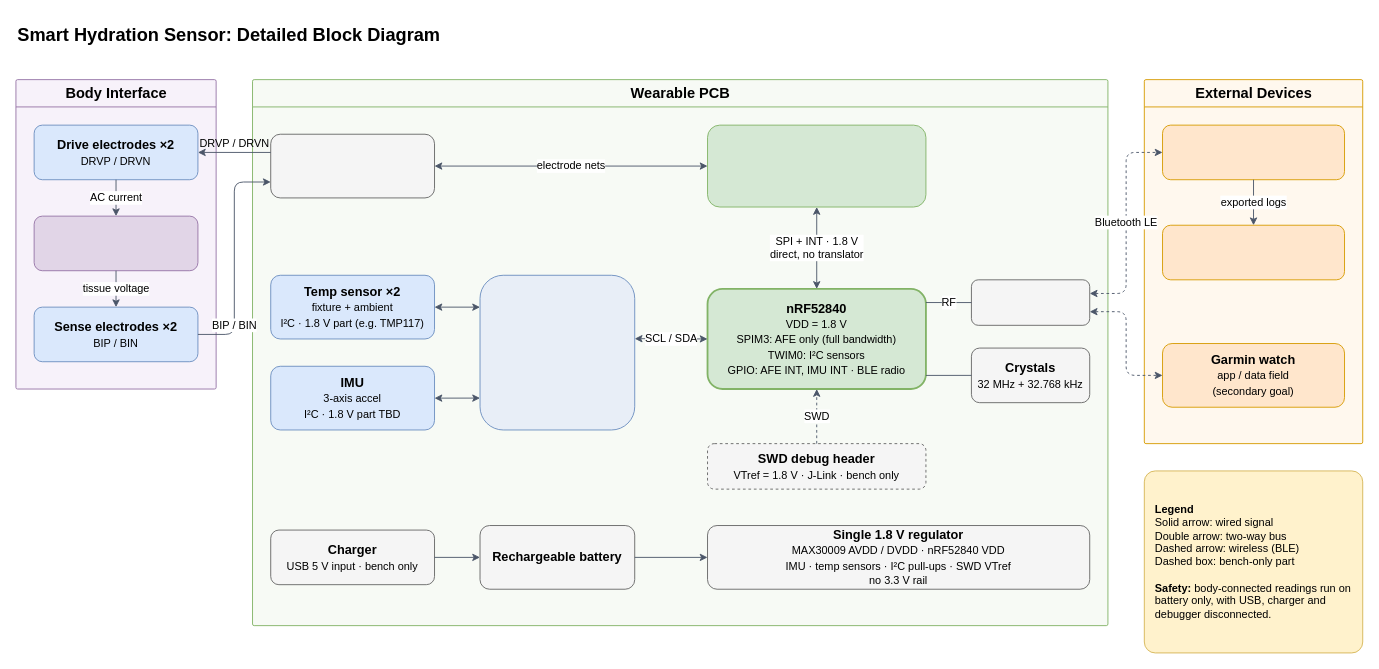
The diagram is 1379 pixels wide and 669 high, and some of its shapes have lost their labels. The centre of each missing label's shape, as x and y in pixels:
"2.4 GHz antenna + matching network" goes at point 1030,302.
"Body upper arm tissue" goes at point 115,243.
"MAX30009 BioZ AFE 1.8 V · I/Q receive · 256-word FIFO lead / contact detect" goes at point 816,165.
"Phone / test logger BLE app" goes at point 1253,152.
"Protection network ESD + current limit" goes at point 352,165.
"Shared I²C bus TWIM0 · 400 kHz pull-ups to 1.8 V" goes at point 557,352.
"Validation analysis Python / MATLAB" goes at point 1253,252.
